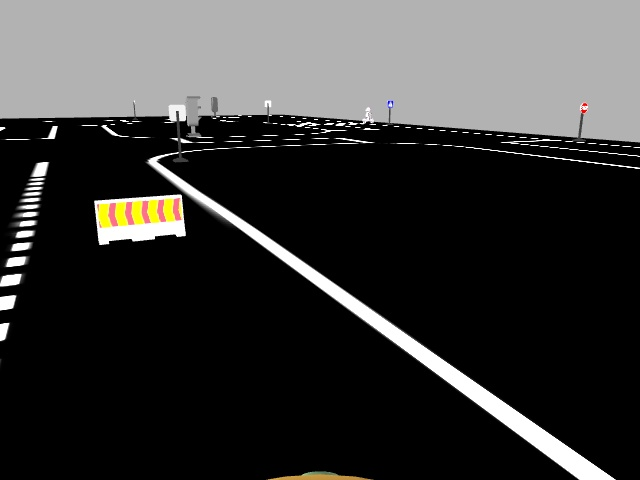ClosedRoadStand: (94, 201, 186, 234)
